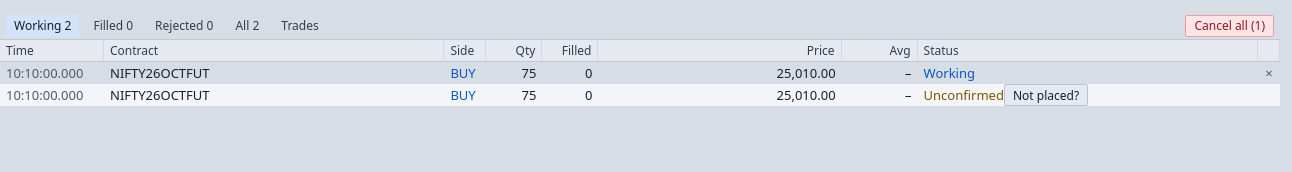
Order book › an unanswered order is marked never placed in two clicks, by the server
Click the button "Not placed?": (1046, 95) [1004,84,1088,106]
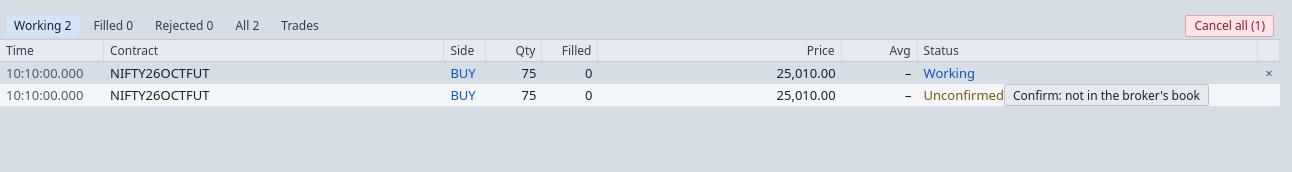
Click the button "Confirm: not in the broker's book": (1106, 95) [1004,84,1209,106]
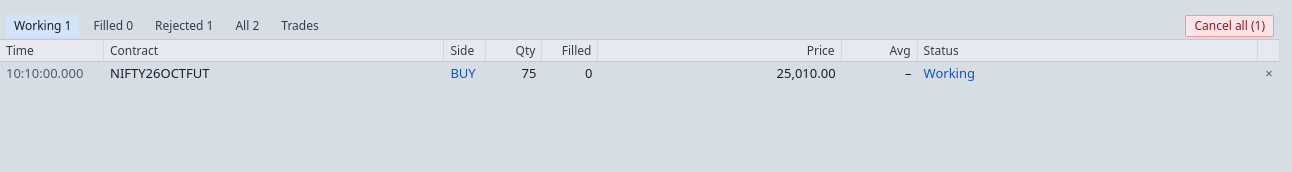
Result: the button "Confirm: not in the broker's book" is gone
